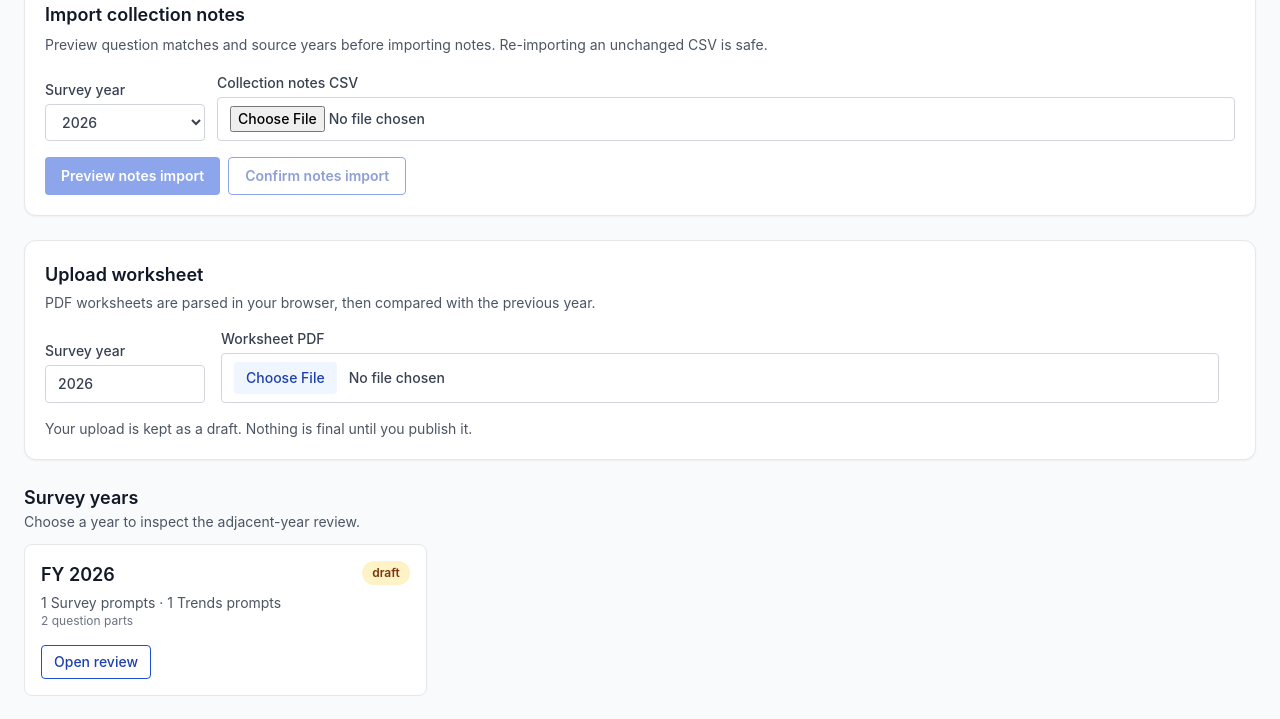
Scenario: ACRL catalogue page › shows the active year review and the ready-to-publish summary
(page scrolled)
Click the button "Open review" at (96,662), box [41,645,151,679]
(page scrolled)
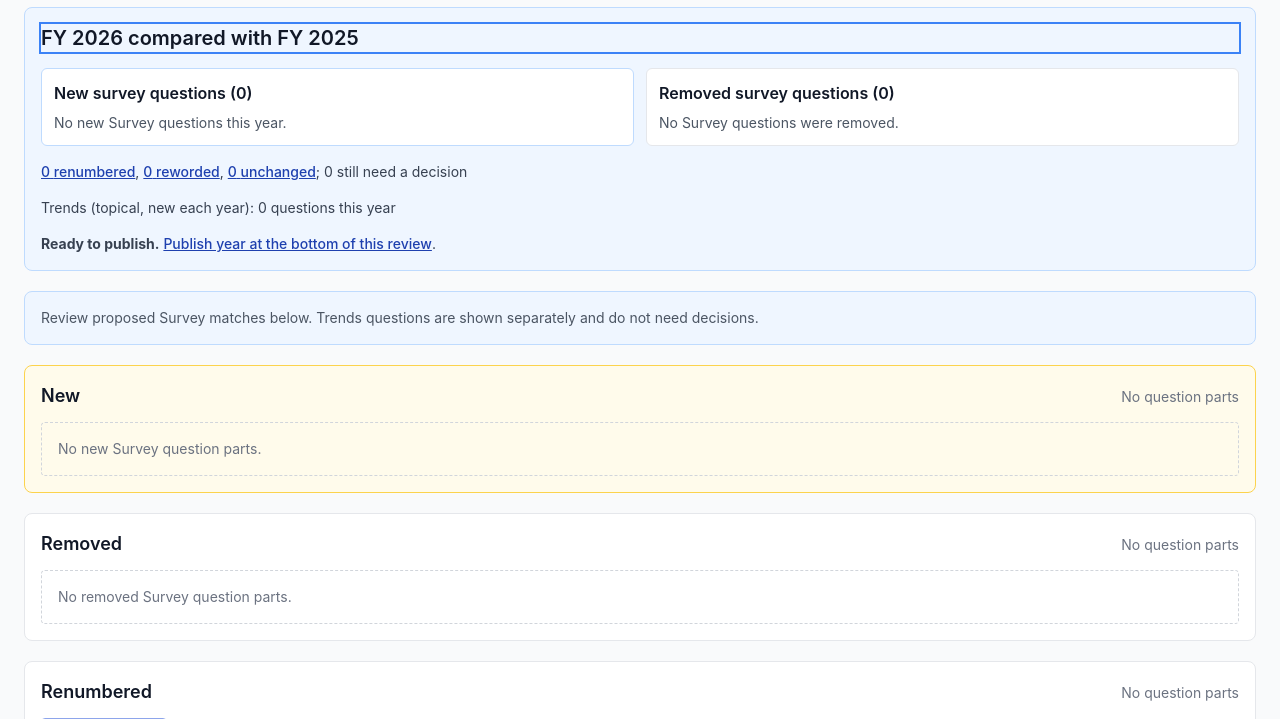
Now the text "Ready to publish." is shown, box [41,235,159,252]
